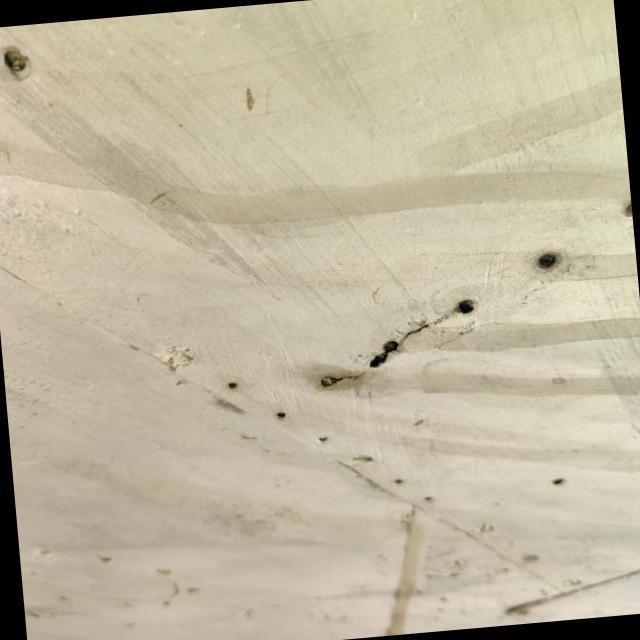Rupture: (296, 276, 503, 414)
